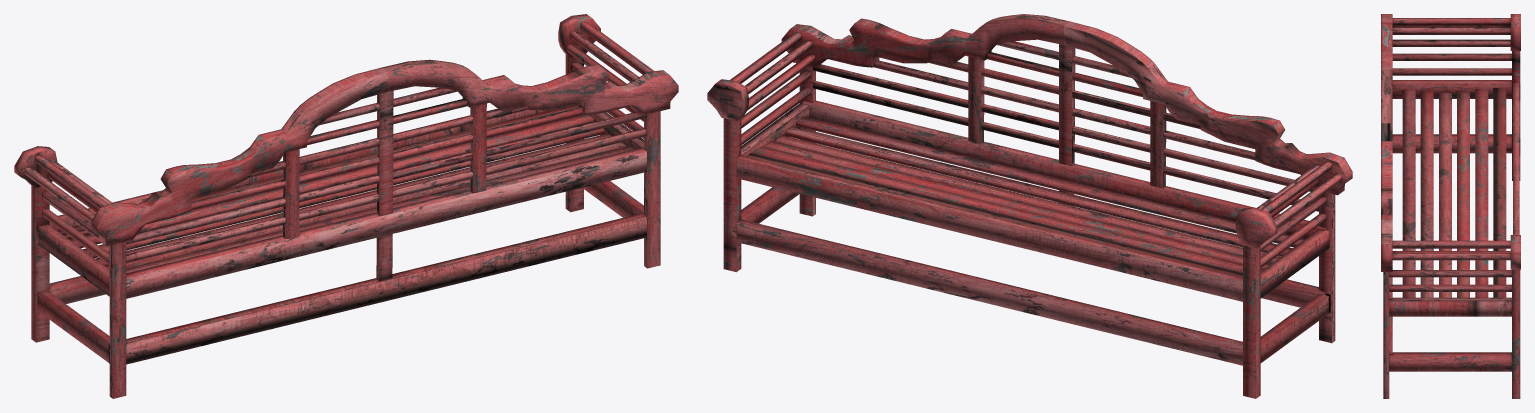
Rendered from bench.fbx.
3 views of the same model, side by side, from view 1: azimuth 30°, elevation 25°; view 2: azimuth 150°, elevation 25°; view 3: azimuth 270°, elevation 25° (orthographic). The views are drawn at different scales.
Visible parts, largest first — view 1: Plane.001; view 2: Plane.001; view 3: Plane.001.
Part boxes in pixels (x1=…): Plane.001: x1=14, y1=14, x2=678, y2=398; Plane.001: x1=707, y1=14, x2=1352, y2=398; Plane.001: x1=1381, y1=14, x2=1520, y2=398.
Bounding box in the file's own units: 6.17 × 2.65 × 1.54.
Materials: 1 (1 with a texture image).
